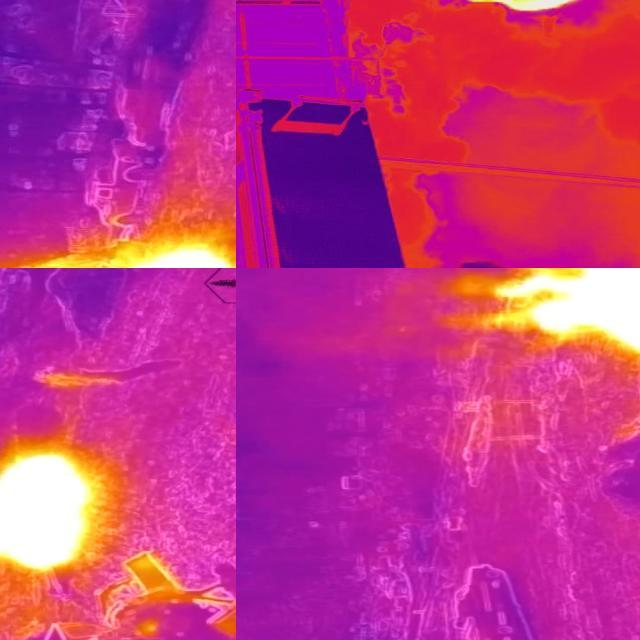fire: (369, 1, 640, 69), (497, 269, 640, 359), (1, 453, 96, 573), (59, 232, 234, 268)
